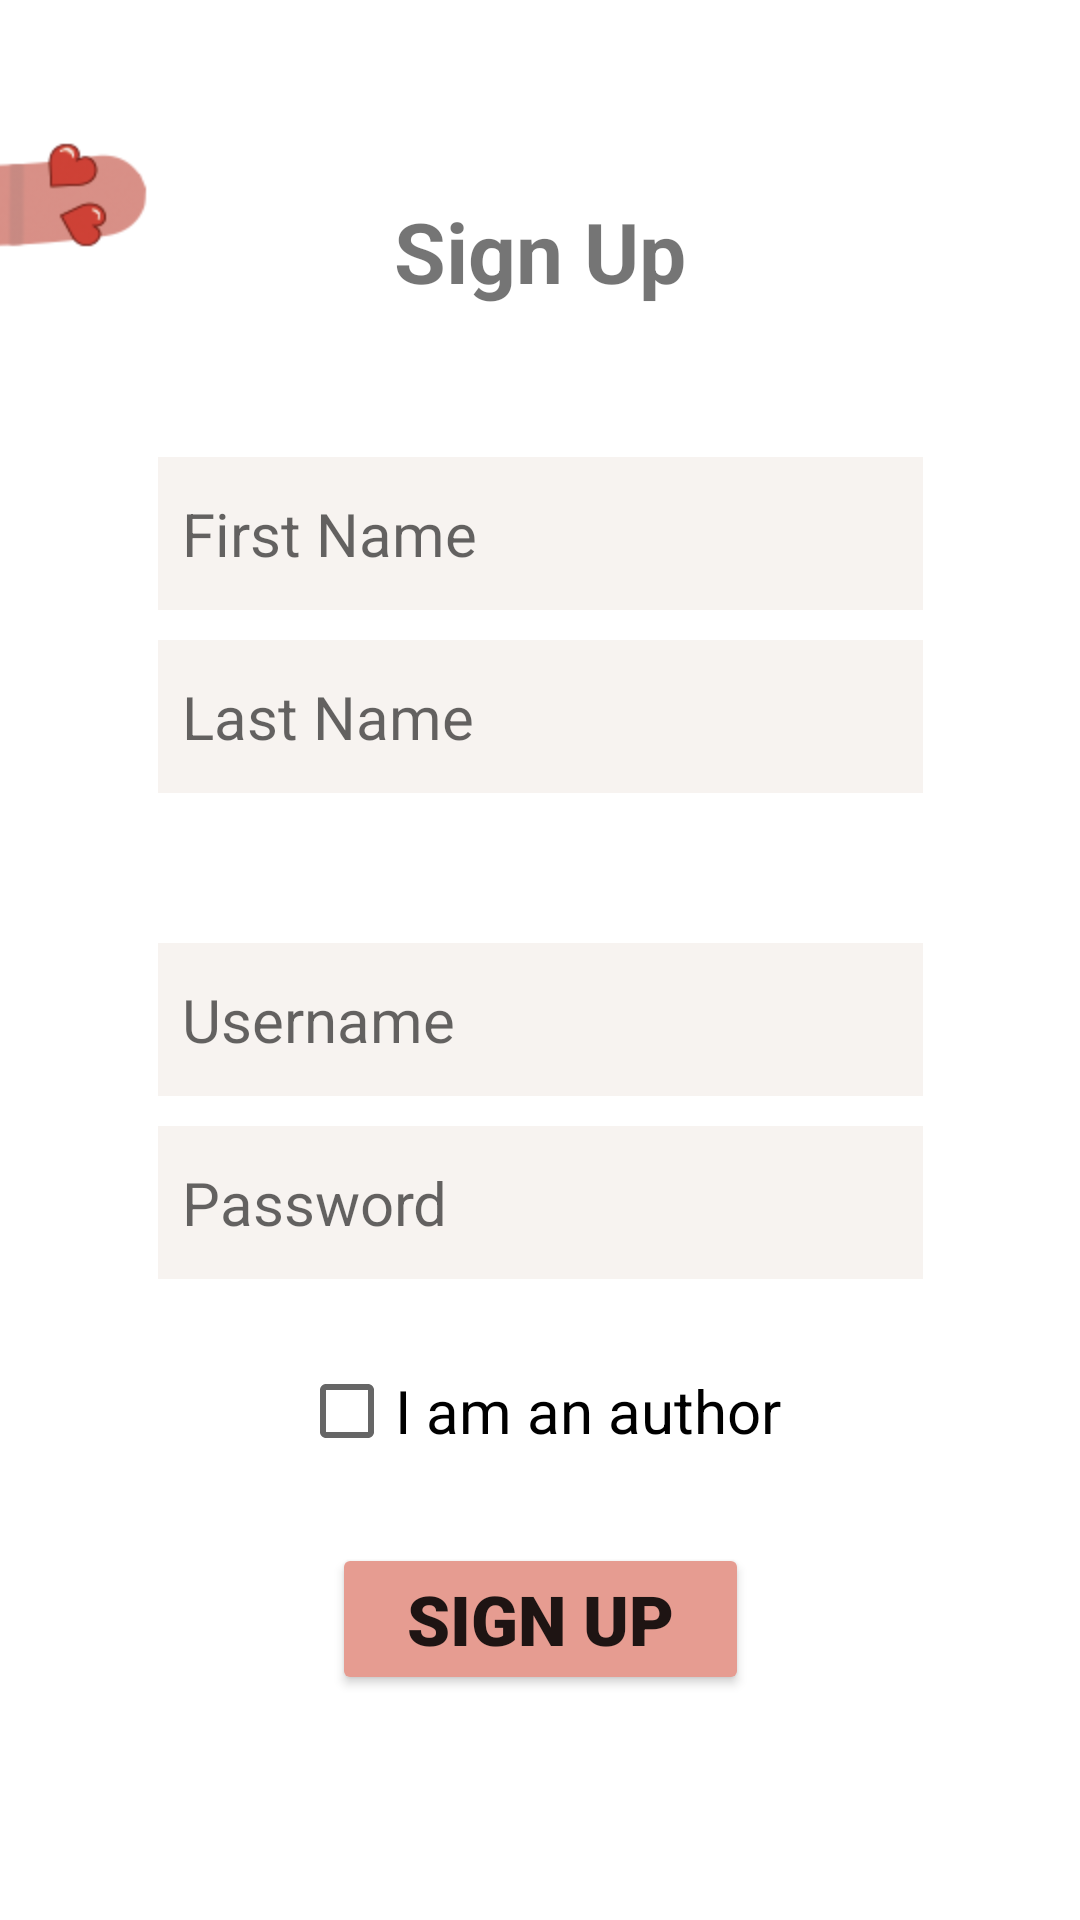

Locate icon controls on the screen. Image size 1080px×1920px, boxes as (x1,y1,x2,y2).
Peeking worm from the top left corner of the screen: (0,143,147,247)
